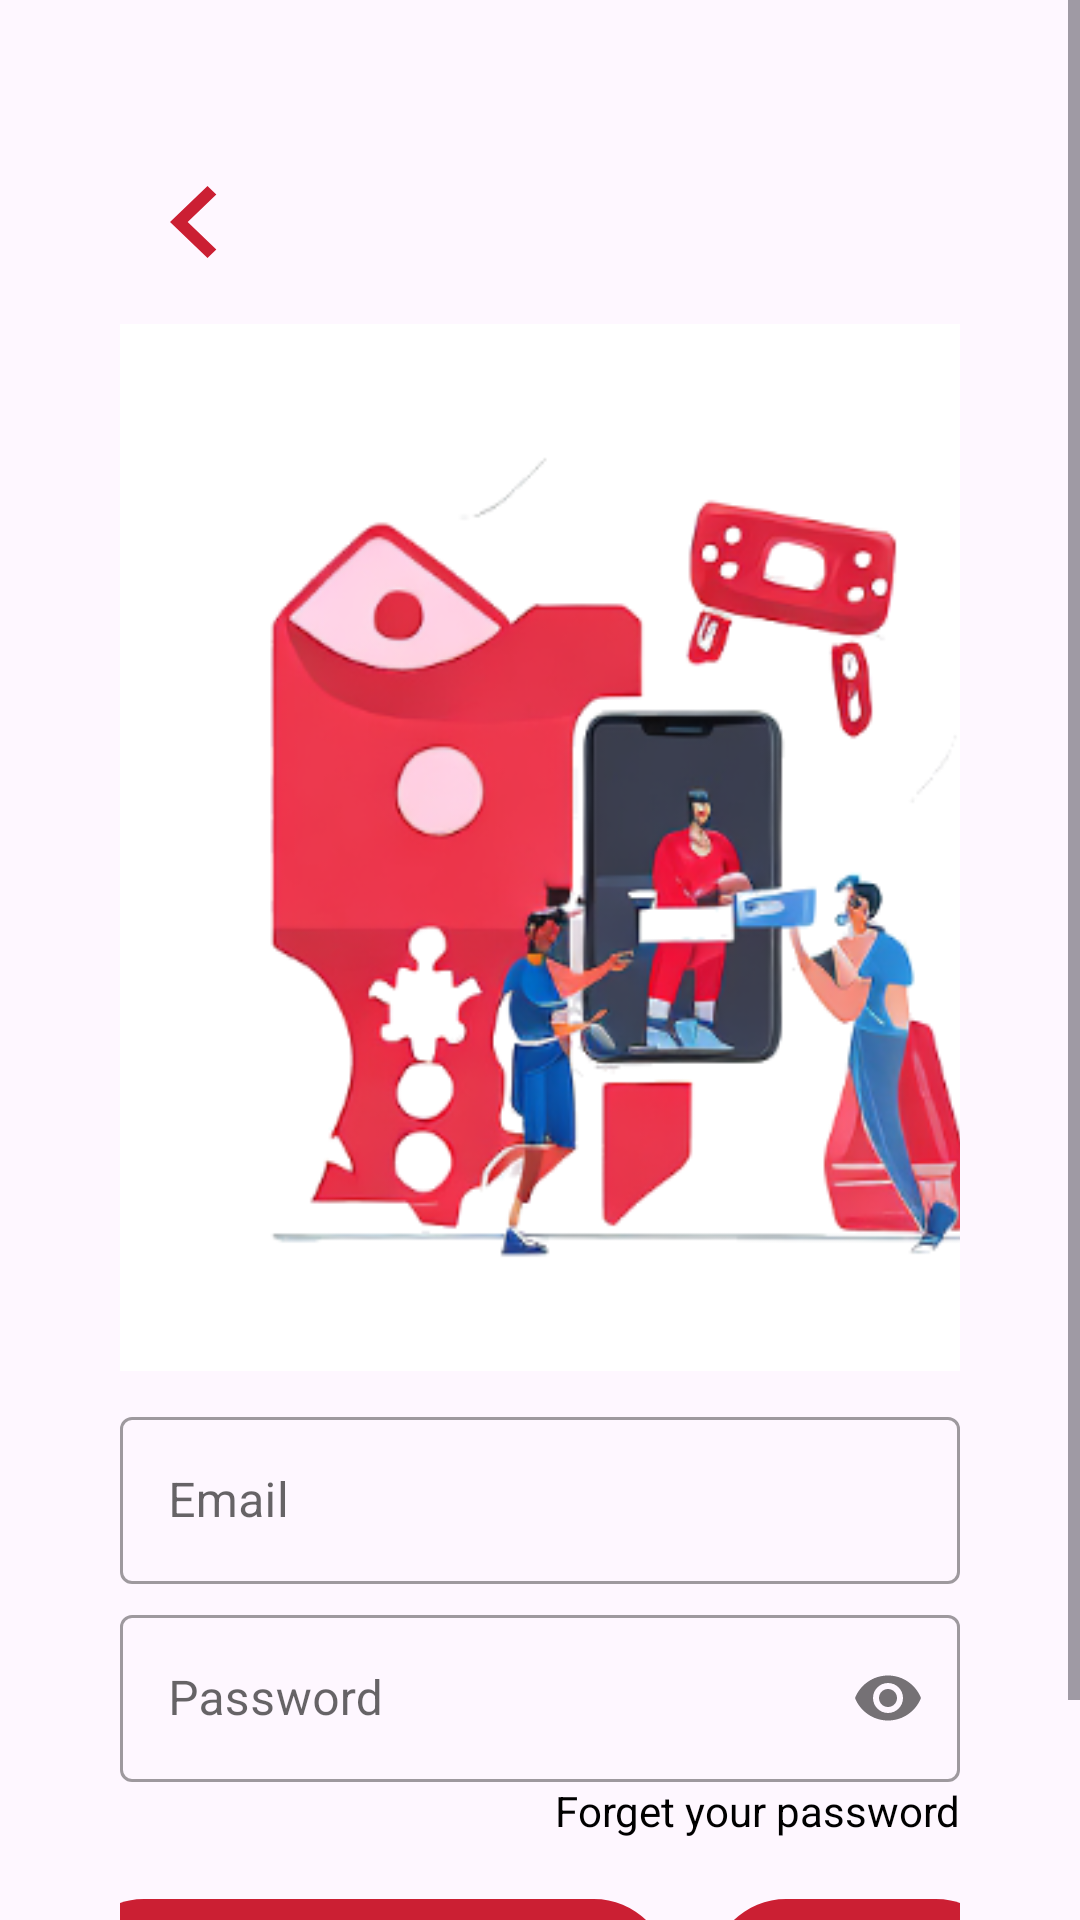

Where icons sit on this 1080w x 1920h app screen, as [x1, y1, x2, y2]:
chevron left: [170, 186, 216, 258]
